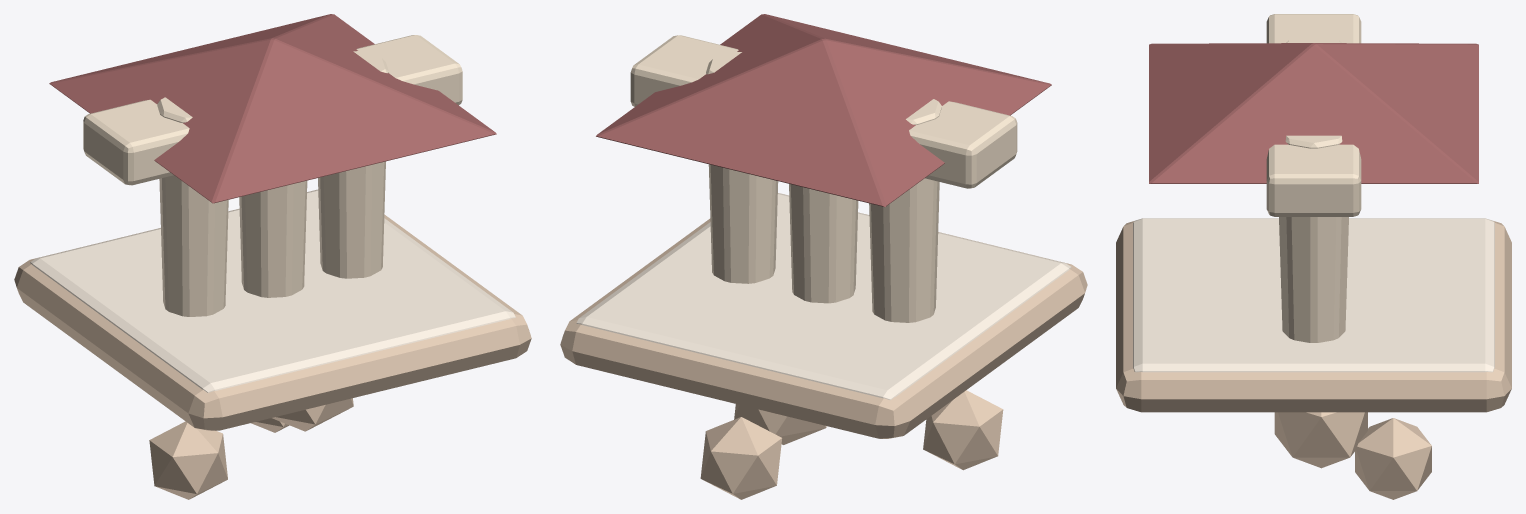
The model's file is island_longctx.glb.
3 renders of one model, left to right at view 1: azimuth 30°, elevation 25°; view 2: azimuth 150°, elevation 25°; view 3: azimuth 270°, elevation 25°, orthographic.
Parts seen in each view (by area): view 1: island_longctx; view 2: island_longctx; view 3: island_longctx.
Part boxes in pixels (box(x1,y1,x2,y2)): island_longctx: box(14, 14, 531, 499); island_longctx: box(560, 14, 1087, 499); island_longctx: box(1116, 14, 1511, 499).
Bounding box in the file's own units: 1.56 × 1.89 × 1.56.
